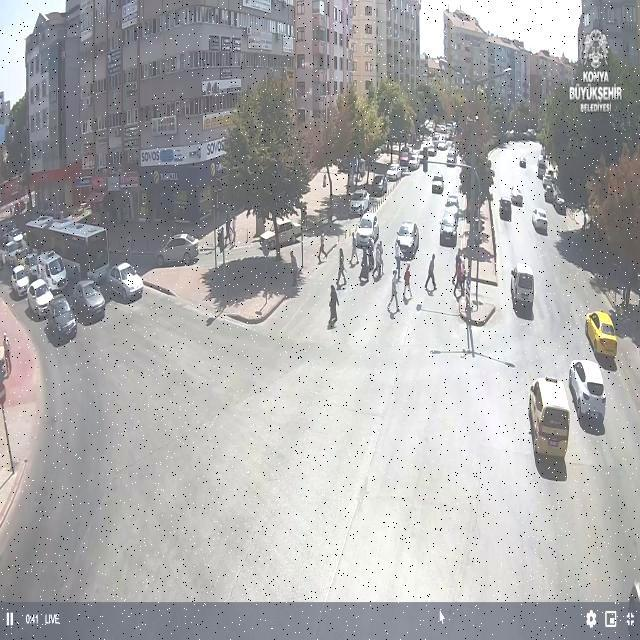Bus: (24, 219, 109, 279), (528, 376, 570, 461)
Car: (569, 362, 606, 424), (581, 308, 620, 364), (154, 231, 202, 270), (105, 260, 147, 300), (69, 278, 107, 321), (45, 298, 78, 342), (24, 281, 54, 315), (395, 220, 420, 260), (438, 207, 460, 250), (356, 212, 379, 248), (346, 188, 369, 220), (9, 261, 27, 300), (530, 206, 549, 236), (370, 174, 388, 196), (430, 172, 442, 196)
Van: (509, 262, 537, 315)
